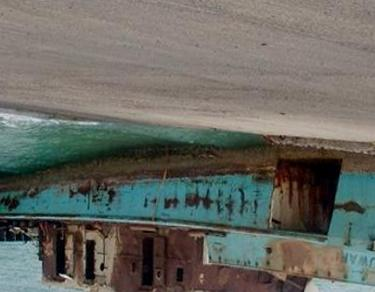rust: (110, 227, 204, 292), (273, 157, 340, 234), (120, 144, 271, 175), (157, 181, 261, 217), (63, 176, 125, 215), (205, 264, 287, 292), (37, 226, 60, 283), (69, 225, 84, 285), (337, 197, 368, 220), (1, 190, 23, 210)
